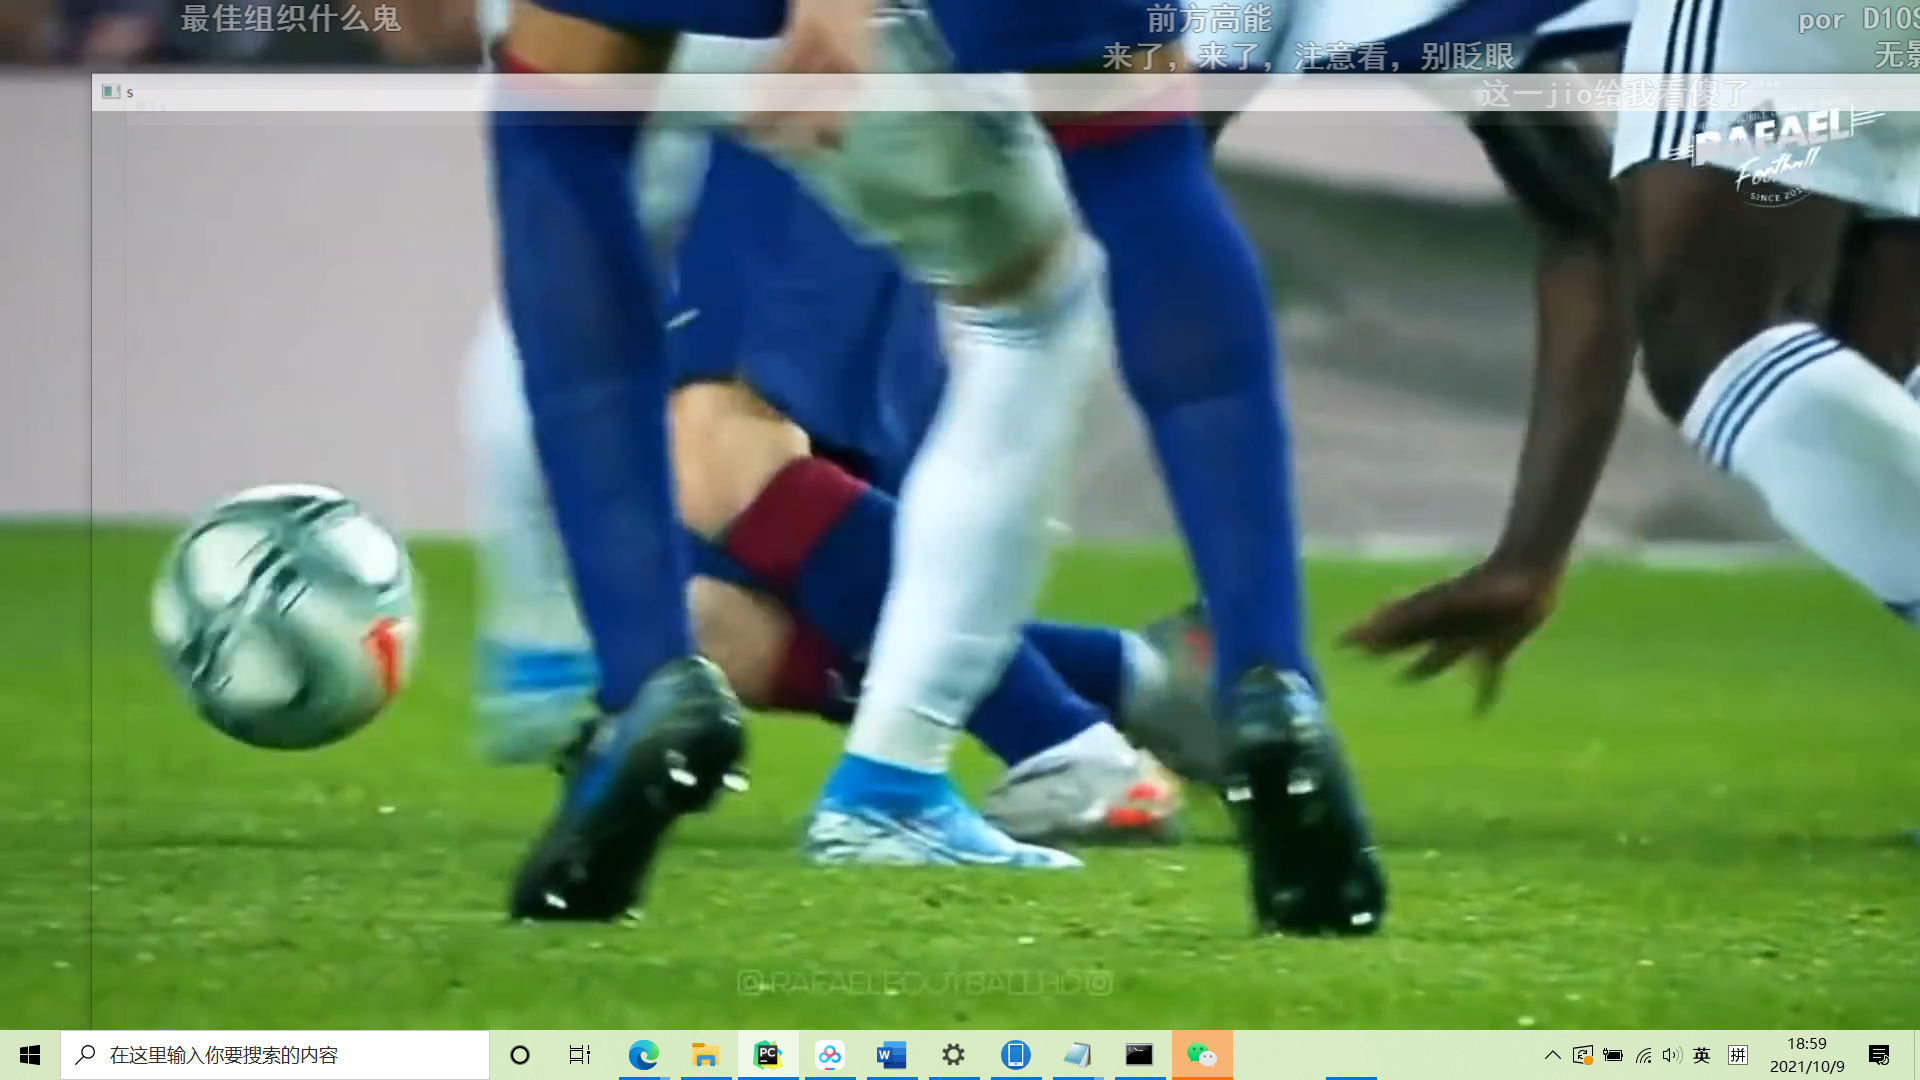ft: (120, 477, 433, 771)
